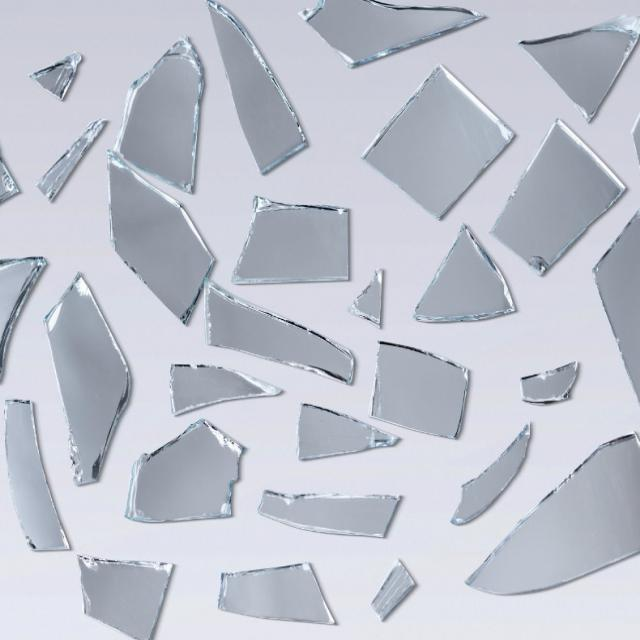PecahanKaca: (1, 1, 638, 634), (346, 7, 637, 336), (23, 10, 309, 319), (212, 394, 393, 630)
